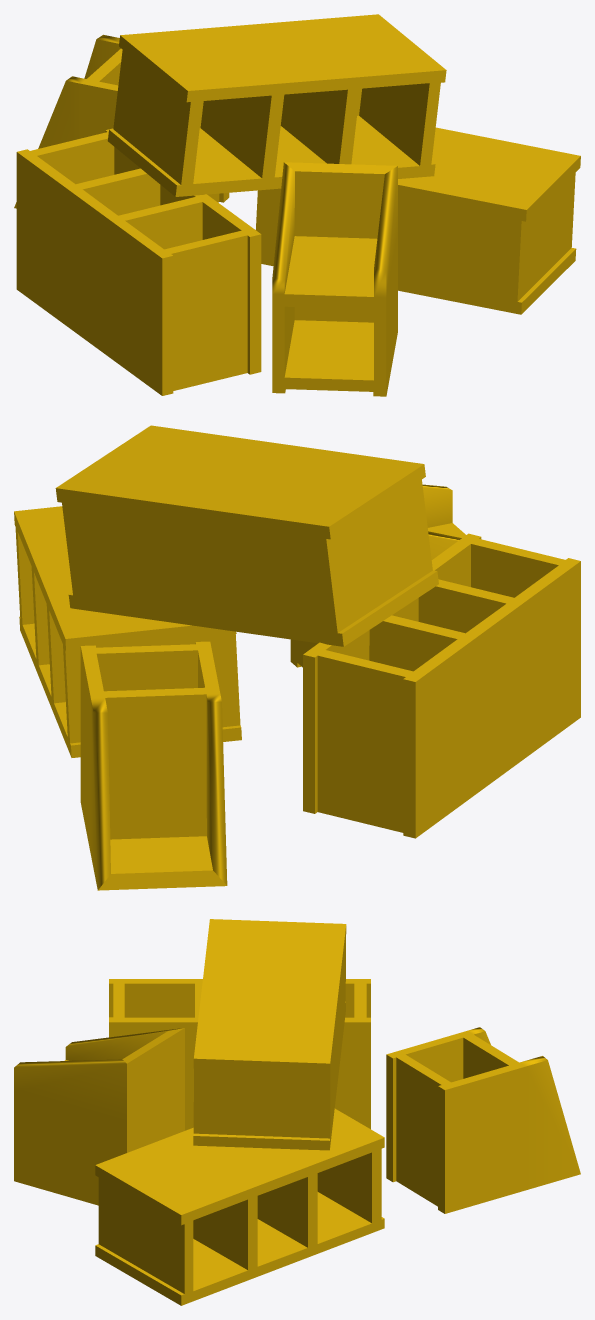
The model's file is Cinderblock_Pile_01_Lod0.fbx.
3 renders of one model, top to bottom at view 1: azimuth 30°, elevation 25°; view 2: azimuth 150°, elevation 25°; view 3: azimuth 270°, elevation 25°, orthographic. The views are drawn at different scales.
Visible parts, largest first — view 1: Cinderblock_Pile_01_Lod0; view 2: Cinderblock_Pile_01_Lod0; view 3: Cinderblock_Pile_01_Lod0.
Part boxes in pixels (x1=…): Cinderblock_Pile_01_Lod0: x1=14, y1=14, x2=580, y2=396; Cinderblock_Pile_01_Lod0: x1=14, y1=425, x2=580, y2=890; Cinderblock_Pile_01_Lod0: x1=14, y1=919, x2=580, y2=1305.
Size of the model in its own units: 93.07 by 48.21 by 111.
